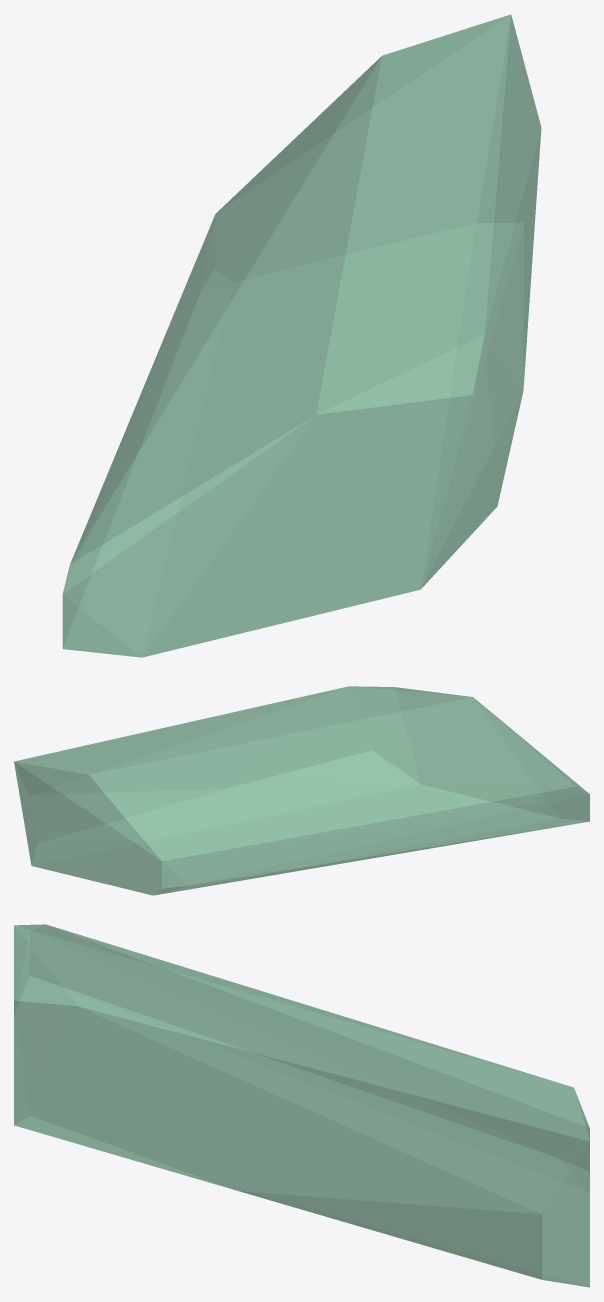
3 renders of one model, top to bottom at view 1: azimuth 30°, elevation 25°; view 2: azimuth 150°, elevation 25°; view 3: azimuth 270°, elevation 25°, orthographic. The views are drawn at different scales.
Parts seen in each view (by area): view 1: Shape_IndexedFaceSet.074_Shape_IndexedFaceSet.6337; view 2: Shape_IndexedFaceSet.074_Shape_IndexedFaceSet.6337; view 3: Shape_IndexedFaceSet.074_Shape_IndexedFaceSet.6337.
Part boxes in pixels (bbox=[...]): Shape_IndexedFaceSet.074_Shape_IndexedFaceSet.6337: bbox=[62, 14, 541, 657]; Shape_IndexedFaceSet.074_Shape_IndexedFaceSet.6337: bbox=[14, 686, 589, 895]; Shape_IndexedFaceSet.074_Shape_IndexedFaceSet.6337: bbox=[14, 924, 589, 1287].
Size of the model in its own units: 0.1093 by 0.0261 by 0.0855.
